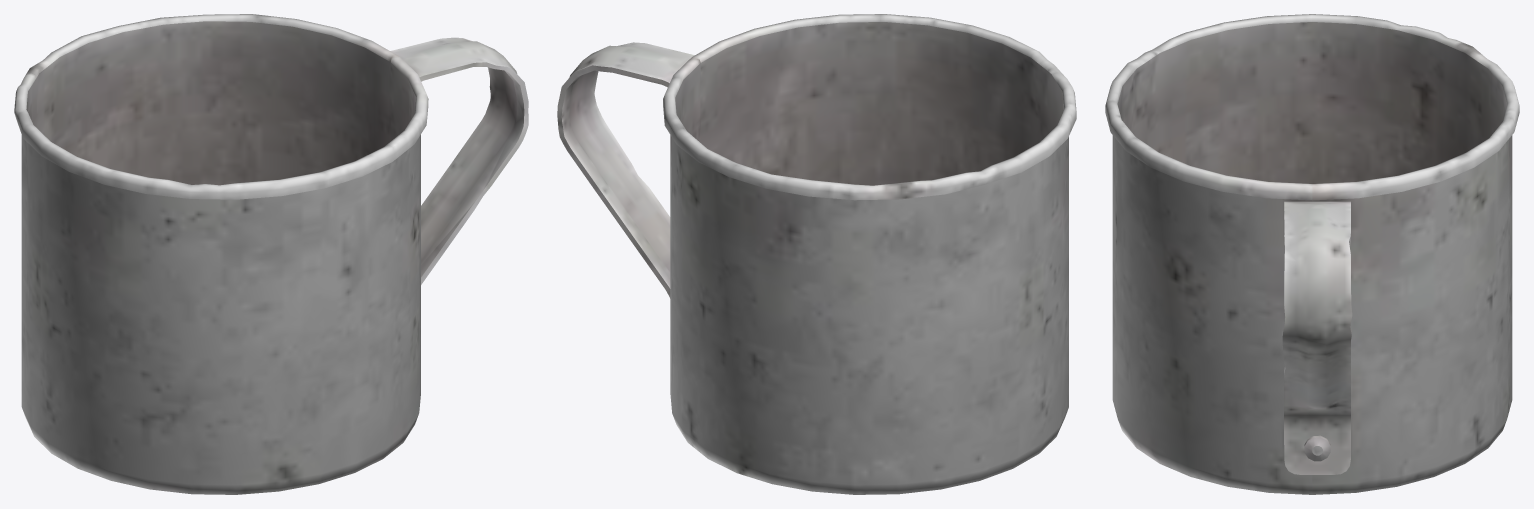
Rendered from cup.glb.
The picture shows the model from 3 angles, left to right: view 1: azimuth 30°, elevation 25°; view 2: azimuth 150°, elevation 25°; view 3: azimuth 270°, elevation 25°; orthographic projection.
Visible parts, largest first — view 1: Line004__0; view 2: Line004__0; view 3: Line004__0.
Boxes of the visible parts, box(x1,y1,x2,y2) form: Line004__0: box(14, 14, 528, 494); Line004__0: box(557, 14, 1076, 494); Line004__0: box(1105, 14, 1519, 494).
Size of the model in its own units: 0.1319 by 0.0837 by 0.0994.
1 material, 1 textured.
